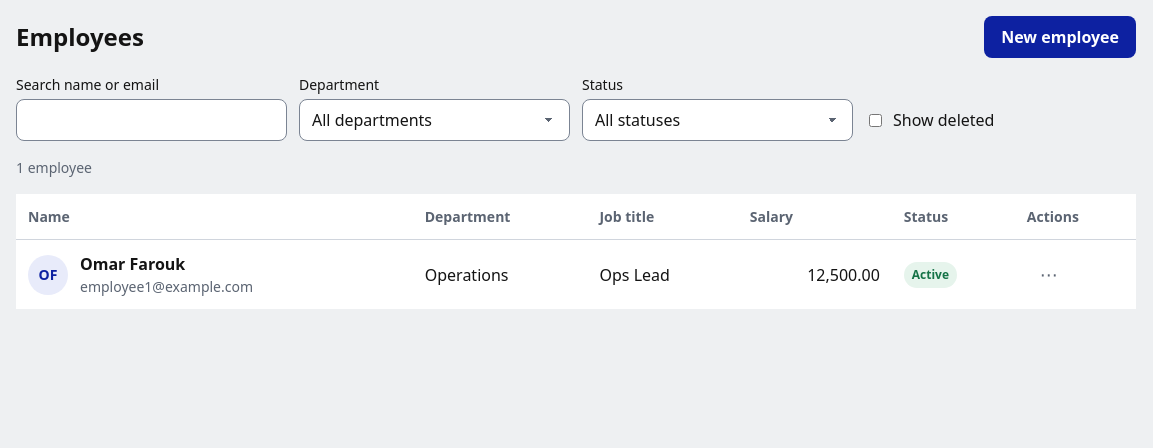
Test case: Payslip drawer - row menu (edge case 21) › lists Edit, Payslip, Delete on active rows
Expected: the table is shown, [16, 194, 1136, 309]
Click the button named "Actions for Omar Farouk": (1049, 274) [1027, 256, 1071, 293]
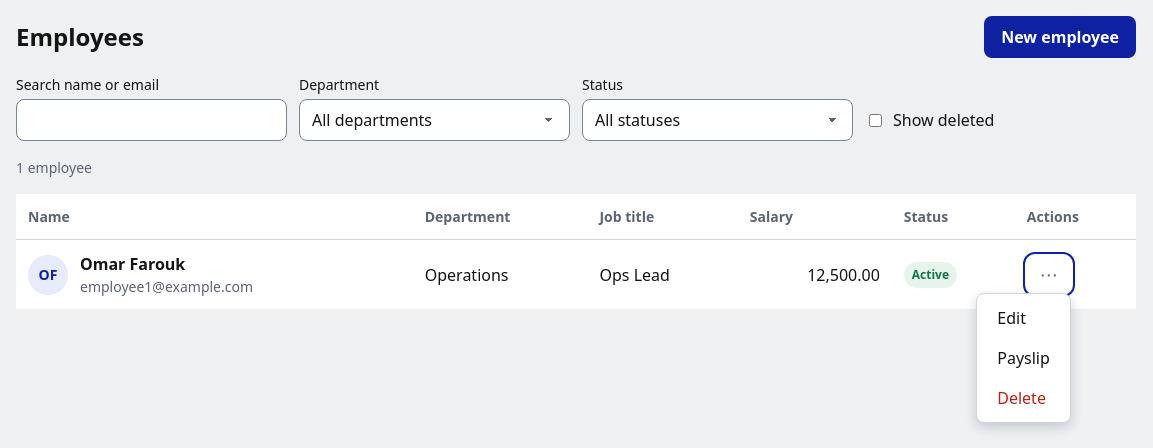
Result: the menu items read "Edit", "Payslip", "Delete", in this order at [981, 298, 1066, 338]; [981, 338, 1066, 378]; [981, 378, 1066, 418]
